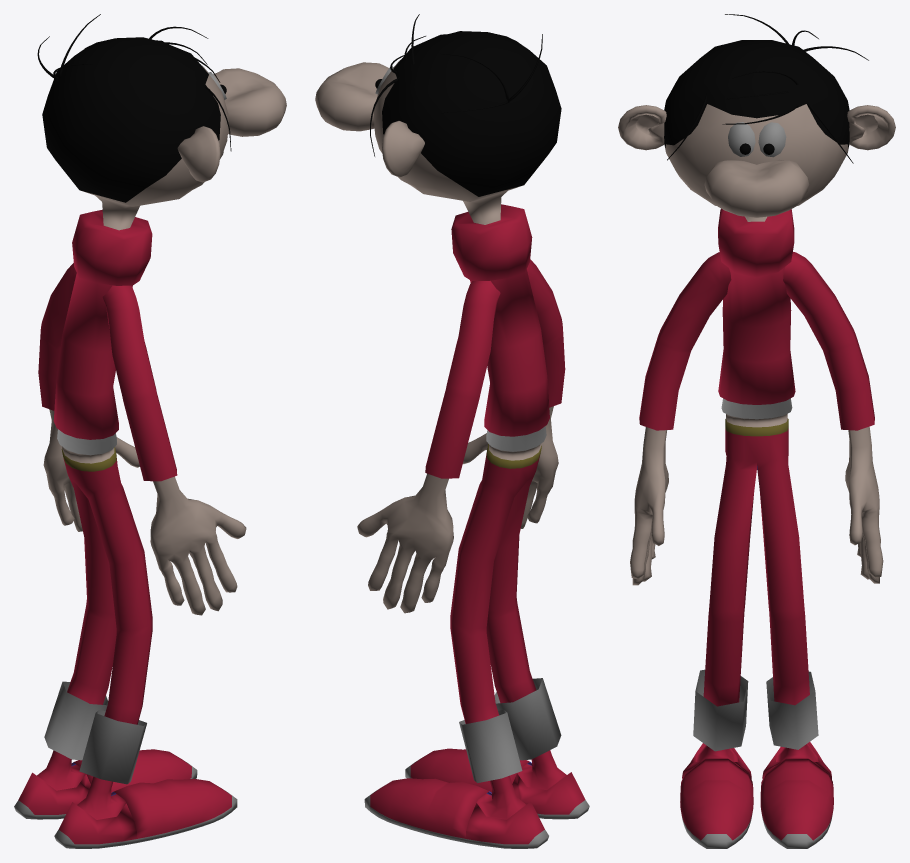
The model's file is spectator_red_short.dae.
3 views of the same model, side by side, from view 1: azimuth 30°, elevation 25°; view 2: azimuth 150°, elevation 25°; view 3: azimuth 270°, elevation 25° (orthographic).
Visible parts, largest first — view 1: gaston; view 2: gaston; view 3: gaston.
Boxes of the visible parts, x1,y1,x2,y2 form: gaston: [14, 14, 286, 848]; gaston: [315, 14, 589, 848]; gaston: [618, 14, 895, 848].
Size of the model in its own units: 0.388 by 0.3894 by 1.19.
